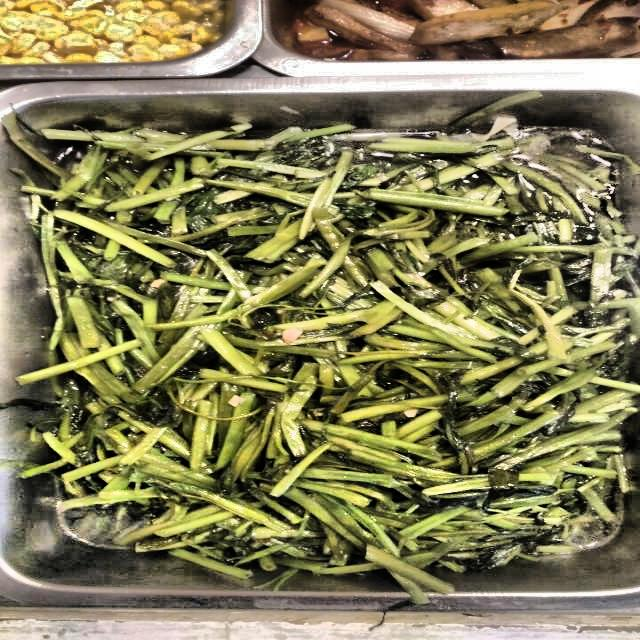Food: (42, 123, 616, 584)
